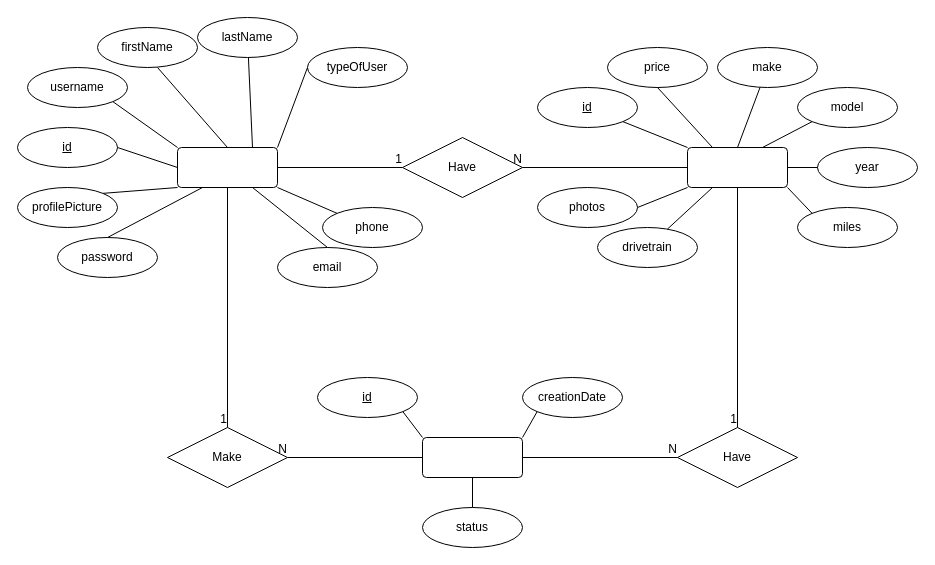
The diagram is 935 pixels wide and 565 high, and some of its shapes have lost their labels. The box of each missing label's shape, as (x1, y1, x2, y2) in pixels:
Car: (686, 146, 788, 188)
PurchaseRequest: (422, 436, 522, 478)
User: (176, 146, 278, 188)
